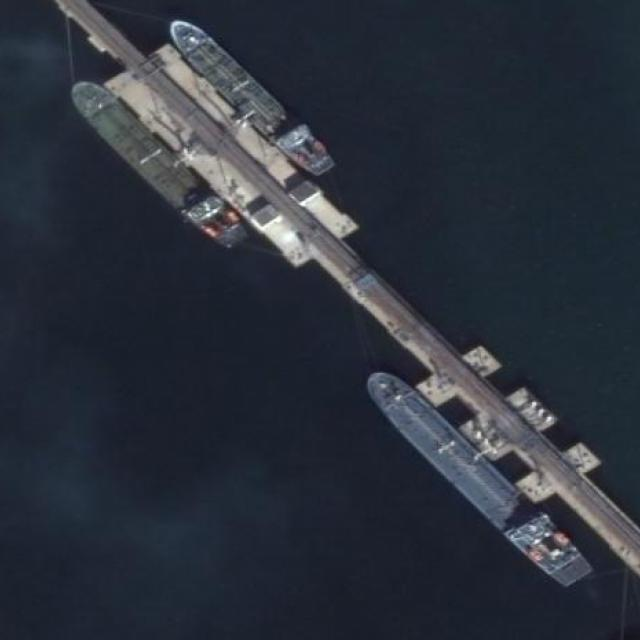Oil Tanker: (356, 363, 597, 595), (61, 70, 250, 257), (163, 10, 337, 184)
